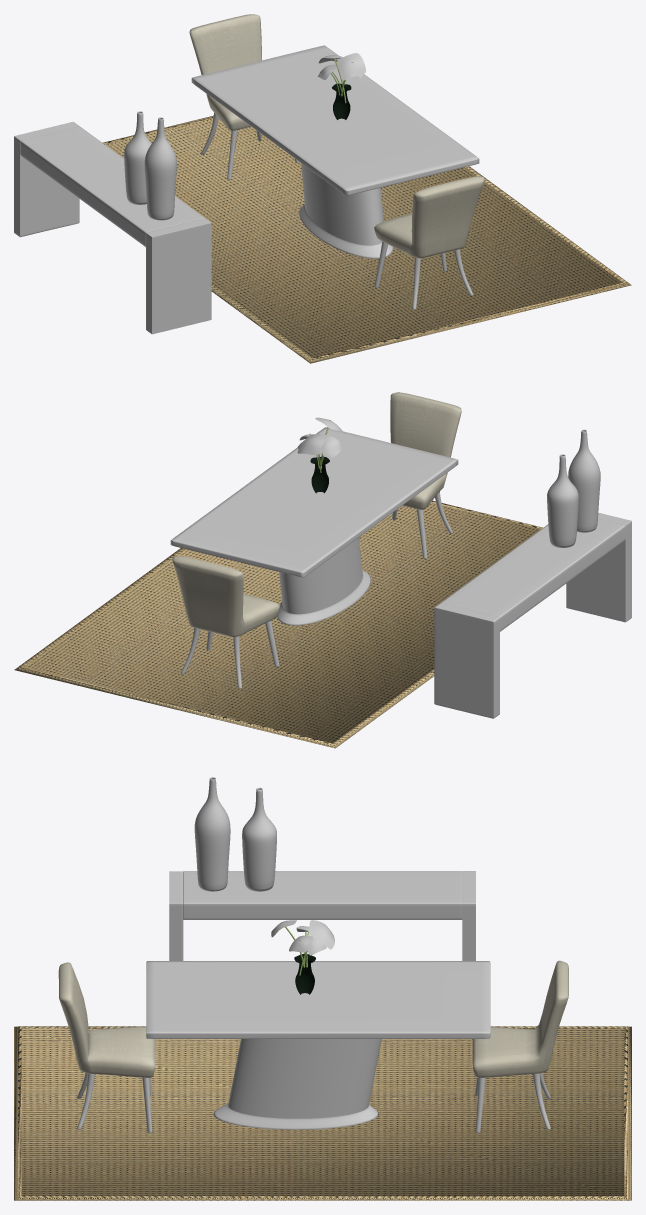
The model's file is props.obj.
3 views of the same model, one above another, from view 1: azimuth 30°, elevation 25°; view 2: azimuth 150°, elevation 25°; view 3: azimuth 270°, elevation 25° (orthographic). The views are drawn at different scales.
Visible parts, largest first — view 1: Plane.001, mesajantar, Desc, cadeirajantar, cadeirajantar.007, JarroMaior, JarroMenos, Caule2, Jarro2; view 2: Plane.001, mesajantar, Desc, cadeirajantar.007, cadeirajantar, JarroMenos, JarroMaior, Caule2, Jarro2; view 3: Plane.001, mesajantar, Desc, cadeirajantar, cadeirajantar.007, JarroMaior, JarroMenos, Caule2, Jarro2.
Part boxes in pixels (box(x1,y1,x2,y2)): Plane.001: box(102, 115, 631, 363); mesajantar: box(191, 45, 479, 258); Desc: box(14, 121, 211, 334); cadeirajantar: box(374, 176, 484, 309); cadeirajantar.007: box(189, 14, 299, 179); JarroMaior: box(144, 117, 176, 220); JarroMenos: box(124, 111, 151, 204); Caule2: box(318, 53, 365, 103); Jarro2: box(332, 83, 351, 119); Plane.001: box(14, 500, 542, 748); mesajantar: box(170, 427, 458, 625); Desc: box(434, 512, 631, 718); cadeirajantar.007: box(172, 556, 279, 688); cadeirajantar: box(359, 392, 461, 558); JarroMenos: box(547, 454, 578, 547); JarroMaior: box(568, 429, 600, 532); Caule2: box(297, 417, 344, 472); Jarro2: box(310, 457, 329, 493); Plane.001: box(14, 1026, 631, 1200); mesajantar: box(146, 961, 490, 1129); Desc: box(169, 871, 475, 960); cadeirajantar: box(58, 962, 154, 1132); cadeirajantar.007: box(472, 960, 568, 1132); JarroMaior: box(194, 777, 230, 891); JarroMenos: box(242, 787, 276, 891); Caule2: box(271, 920, 334, 975); Jarro2: box(294, 953, 315, 994).
Size of the model in its own units: 2.84 by 1.29 by 3.34.
